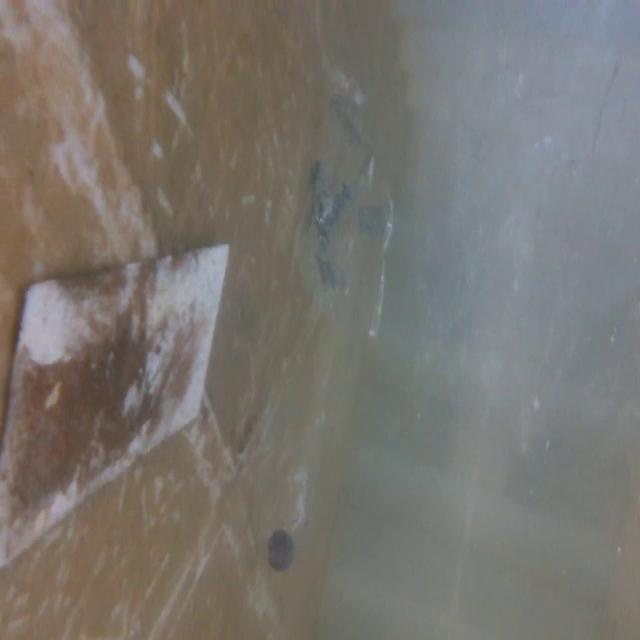metal: (0, 243, 238, 566)
plastic bags: (409, 0, 599, 505), (302, 59, 392, 337)
plastic bottle: (248, 350, 328, 576)
